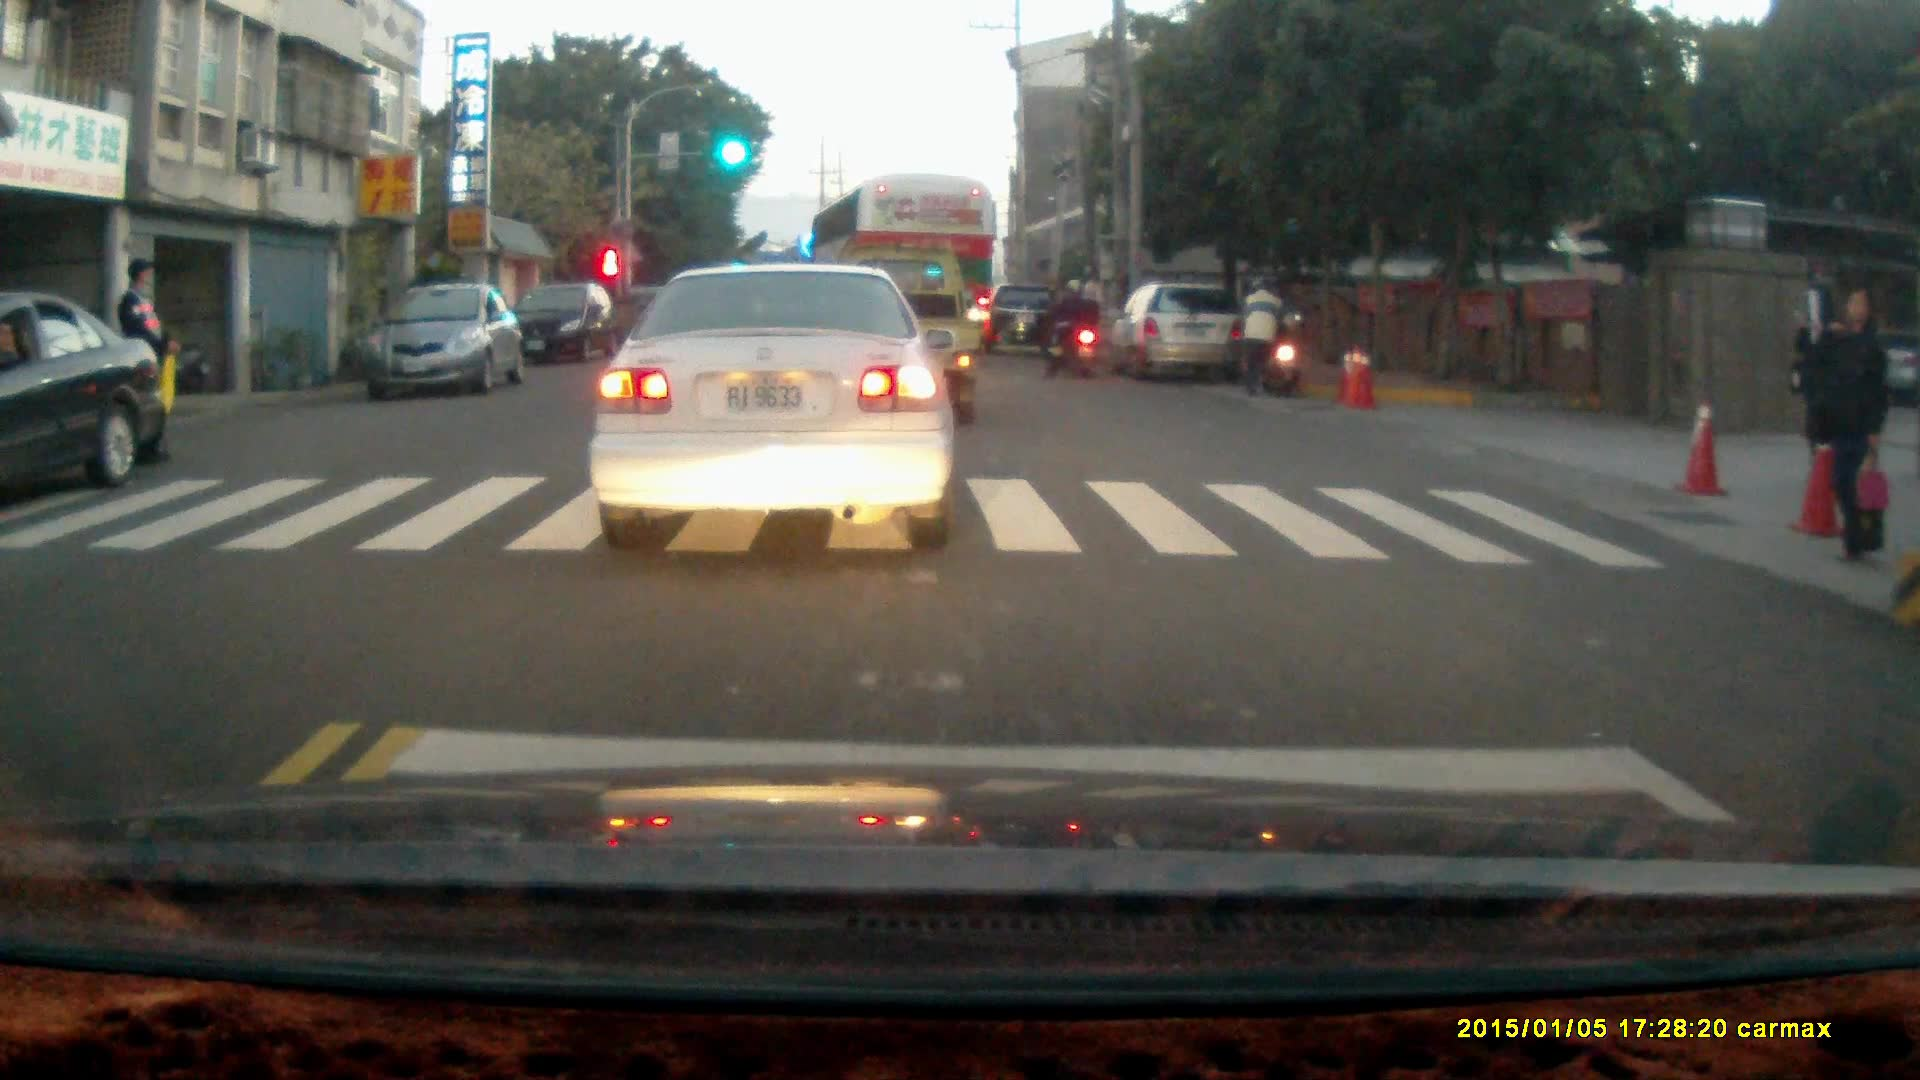pedestrian: (1808, 291, 1890, 565), (114, 255, 177, 467), (1790, 284, 1841, 484), (1237, 277, 1283, 398)
rider: (1039, 274, 1098, 383)
vehicle: (582, 261, 957, 553), (807, 172, 997, 385), (2, 290, 164, 506), (360, 286, 522, 406), (1113, 286, 1246, 385), (509, 281, 622, 366), (982, 285, 1062, 354)
